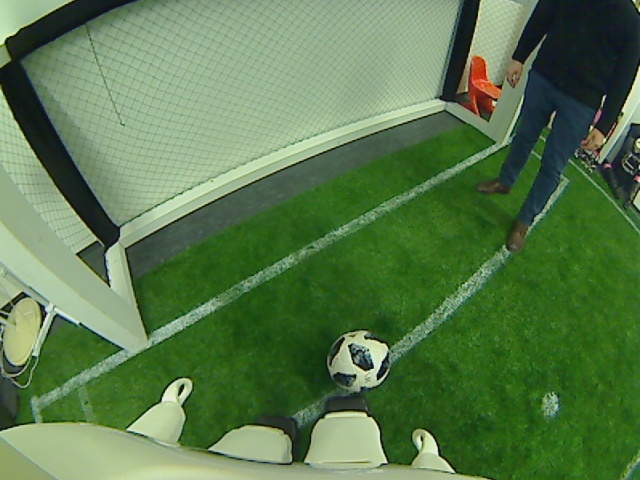ball: (325, 327, 390, 394)
